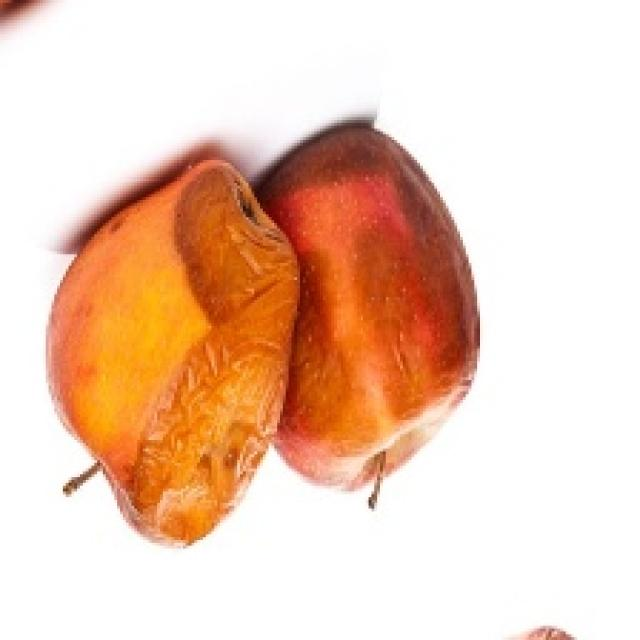100-_ripeness: (304, 123, 480, 489)
rotten_apple: (51, 164, 300, 538)
